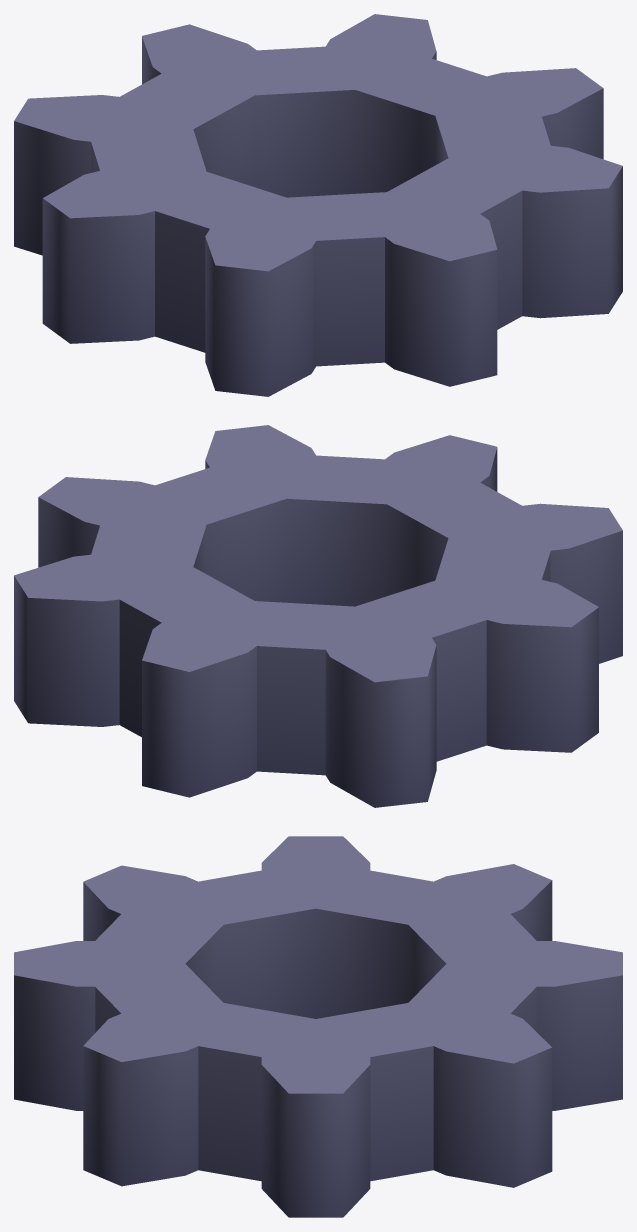
File: cog-e.glb
3 views of the same model, one above another, from view 1: azimuth 30°, elevation 25°; view 2: azimuth 150°, elevation 25°; view 3: azimuth 270°, elevation 25° (orthographic).
Visible parts, largest first — view 1: cog-e; view 2: cog-e; view 3: cog-e.
Part boxes in pixels (x1,y1,x2,y2): cog-e: (14, 14, 622, 396); cog-e: (14, 425, 622, 807); cog-e: (14, 836, 622, 1217).
Bounding box in the file's own units: 1 × 0.225 × 1.
